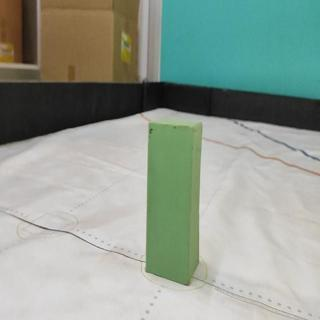greenbox: (145, 117, 203, 287)
